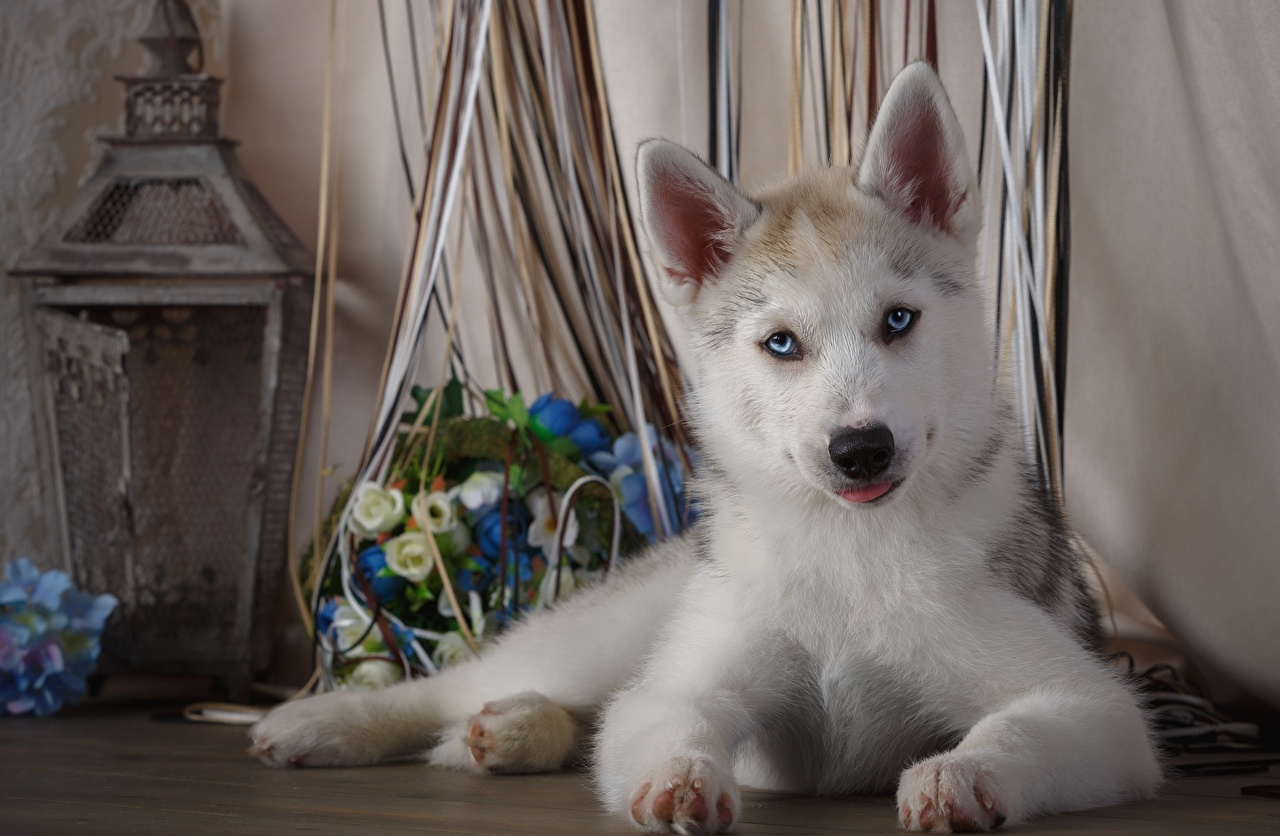husky: (534, 31, 1097, 785)
